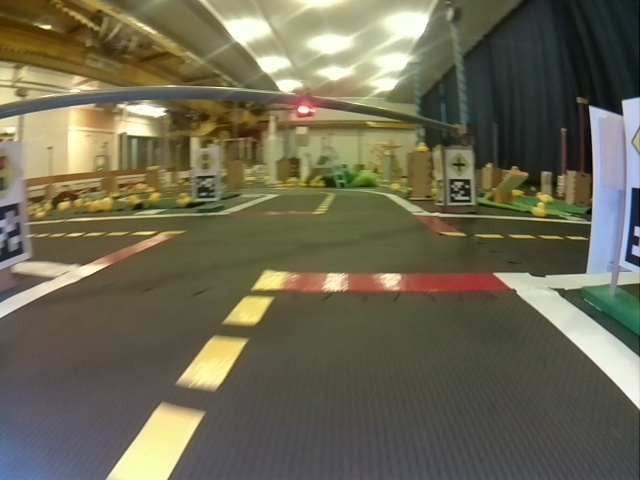Intersection sign: (448, 152, 469, 176)
QR code: (2, 206, 27, 264), (448, 177, 472, 204), (194, 175, 216, 198)
Signal sign: (195, 151, 216, 172)
Traffic light: (294, 91, 315, 117)
